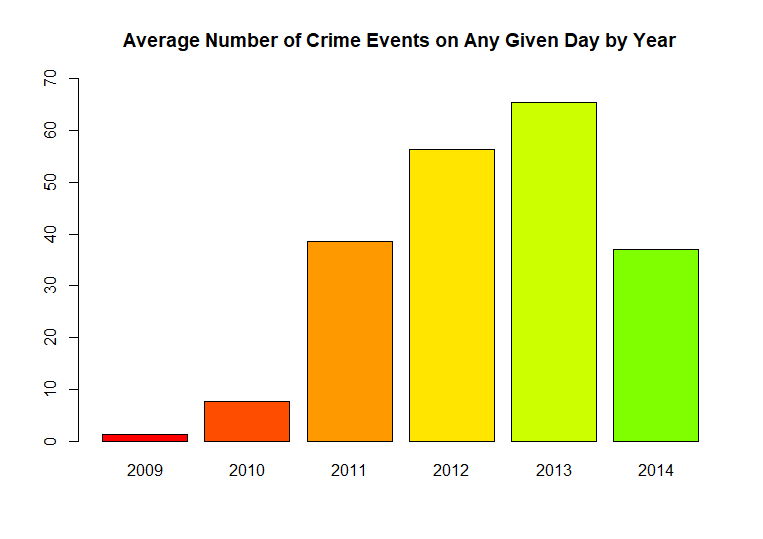

This screenshot's page, from the dashboard's own definition file:
{"tool":"tableau","page":{"name":"Dashboard 1","canvas":[1000,800],"ordinal":0},"visuals":[{"type":"worksheet","title":"Sheet 2","mark":"Bar","rows":["c_violation"],"cols":["j_finding","date2"],"box":[8,8,984,784]}]}

Visuals, with their boxes on the page's 1000x800 design canvas (x1, y1, x2, y2). These are canvas units, not pixel positions in the 763x539 screenshot, which may show the page scaled, cropped or inside an application window:
"Sheet 2" worksheet (Bar marks): 8:8:992:792
